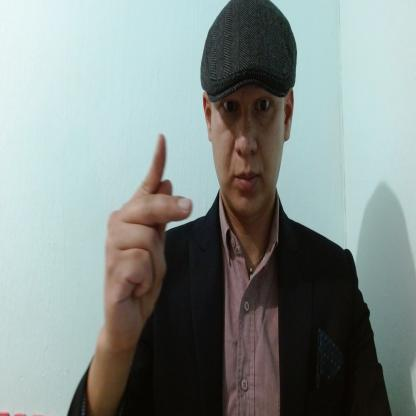P: (102, 130, 194, 336)
